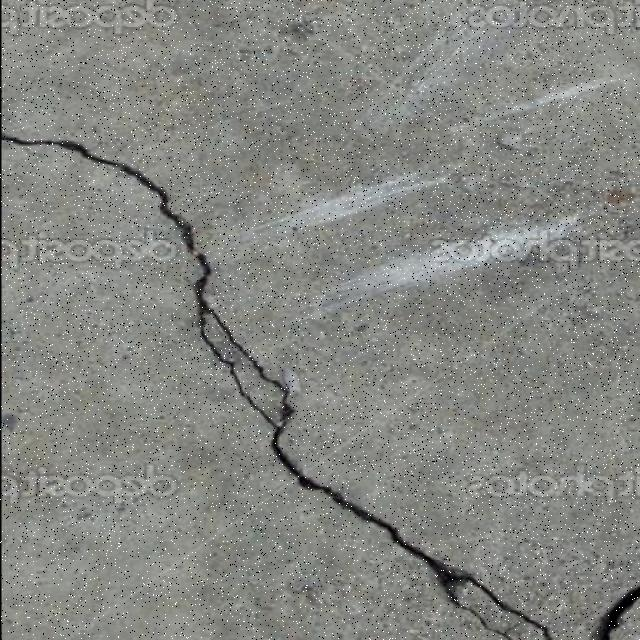Crack: (1, 136, 550, 640), (192, 252, 549, 640), (3, 138, 151, 188), (594, 584, 640, 639)
